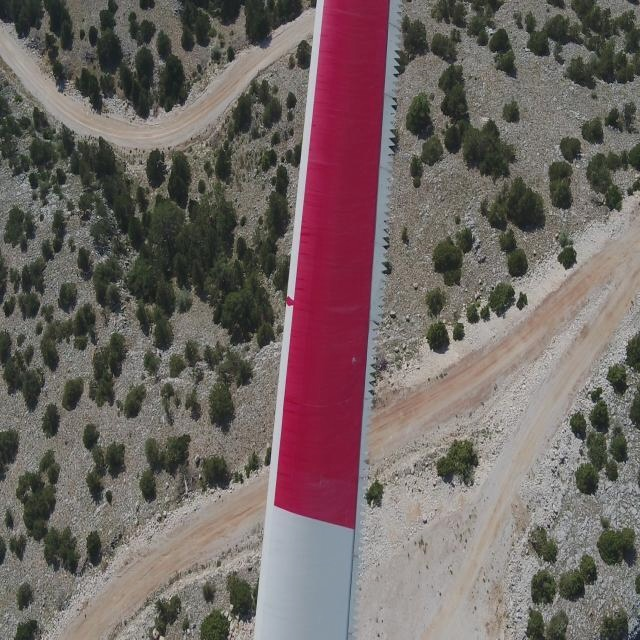Coating_defects: (349, 354, 361, 370)
